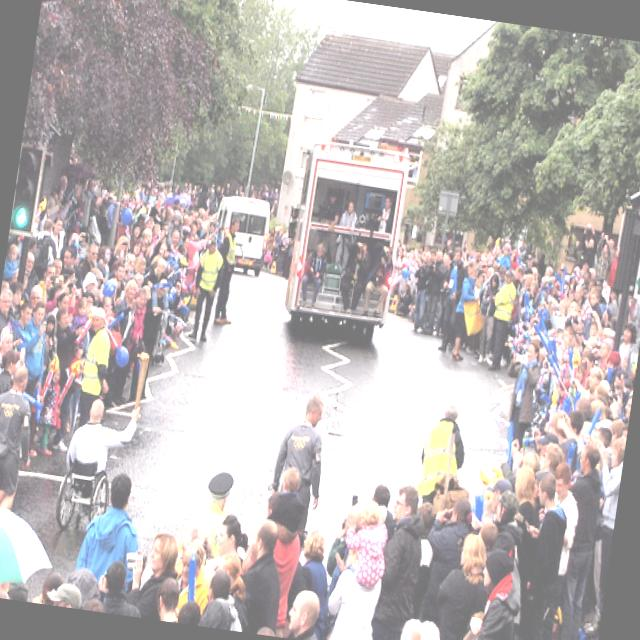Vehicle: (272, 136, 415, 347), (208, 194, 272, 278), (209, 194, 272, 278)
